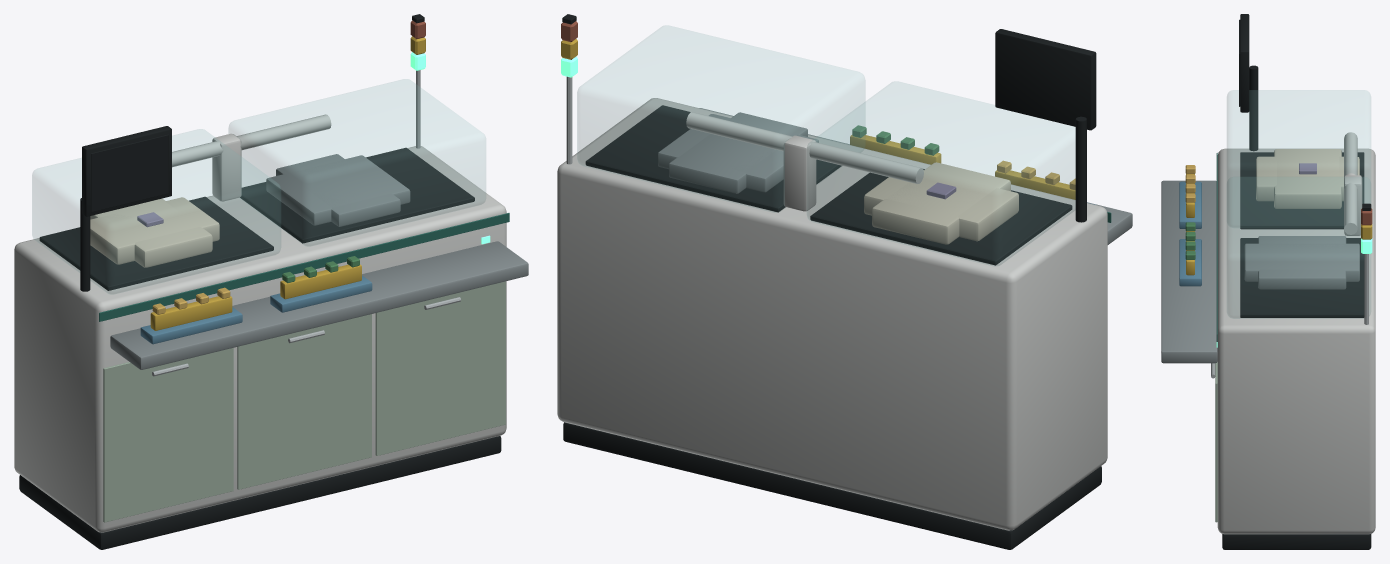
Rendered from chemistry-analyzer.glb.
3 views of the same model, side by side, from view 1: azimuth 30°, elevation 25°; view 2: azimuth 150°, elevation 25°; view 3: azimuth 270°, elevation 25° (orthographic). The views are drawn at different scales.
Parts seen in each view (by area): view 1: chemistry-analyzer; view 2: chemistry-analyzer; view 3: chemistry-analyzer.
Boxes of the visible parts, x1,y1,x2,y2 form: chemistry-analyzer: (14, 14, 528, 549); chemistry-analyzer: (557, 14, 1132, 549); chemistry-analyzer: (1161, 14, 1375, 549).
Bounding box in the file's own units: 1.9 × 1.75 × 0.95.
